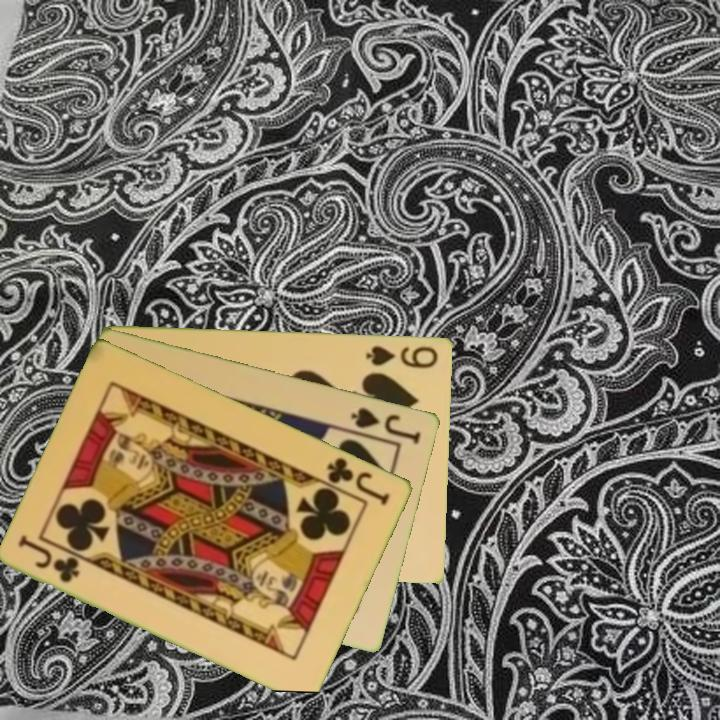9s: (363, 341, 441, 371)
Jc: (323, 453, 393, 508), (15, 532, 83, 586)
Js: (348, 403, 425, 447)
